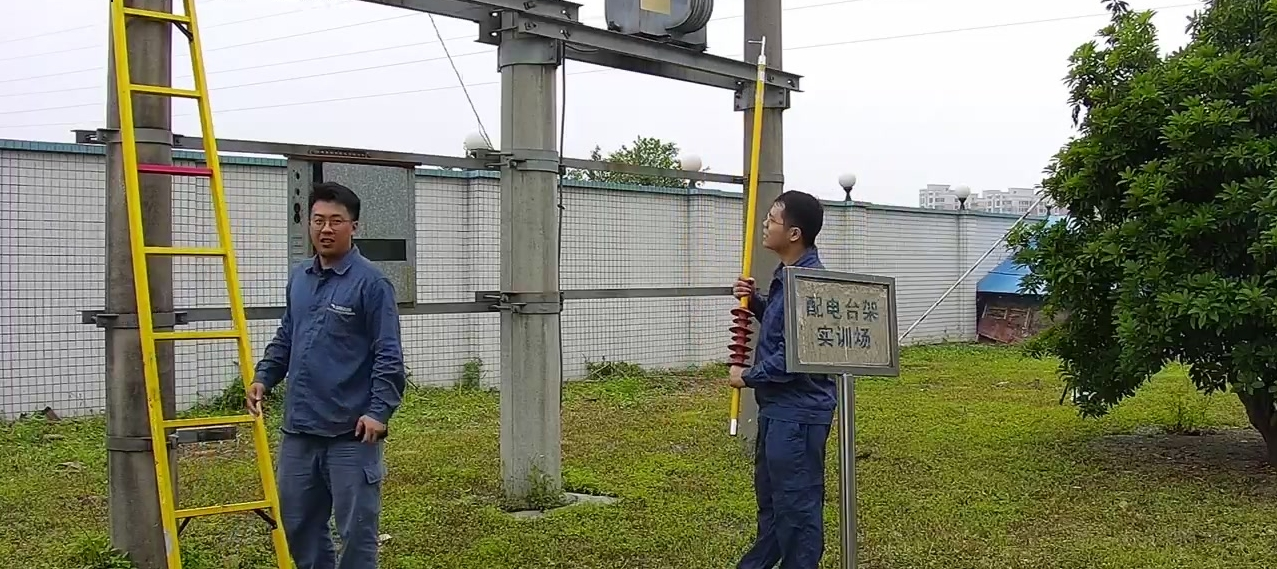未带安全帽的工作人员: (242, 180, 407, 568), (724, 189, 840, 568)
